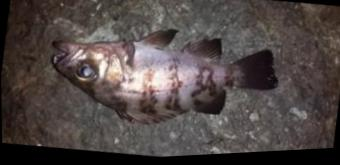fish: (52, 31, 277, 125)
